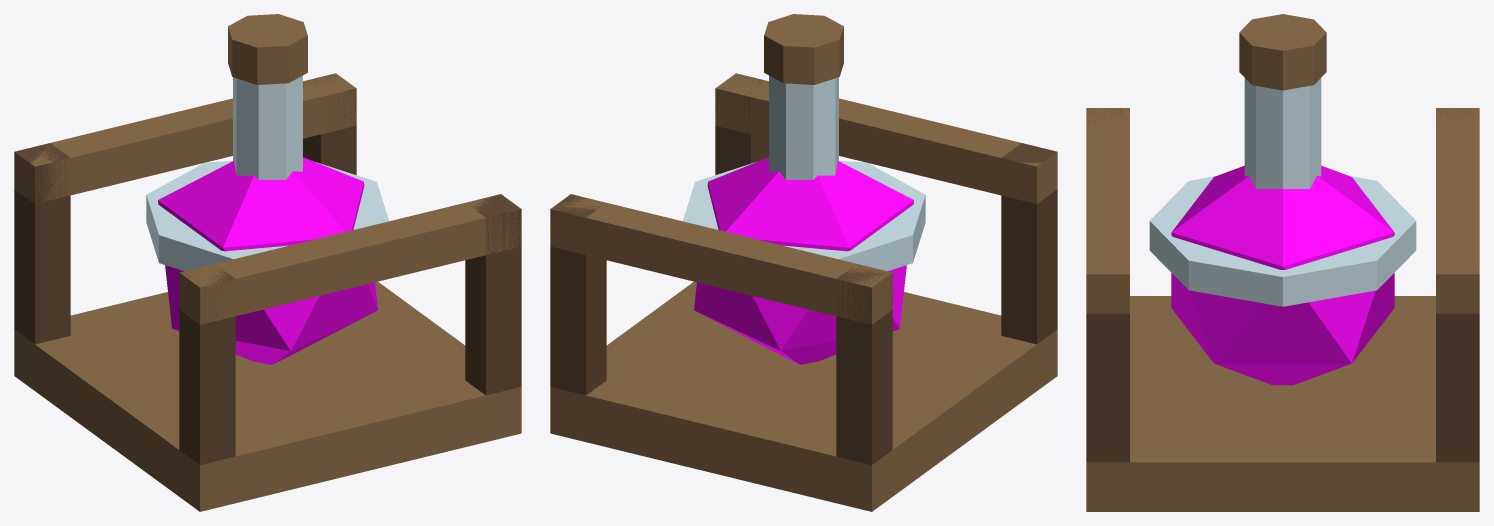
The model's file is objet_science.glb.
3 renders of one model, left to right at view 1: azimuth 30°, elevation 25°; view 2: azimuth 150°, elevation 25°; view 3: azimuth 270°, elevation 25°, orthographic. The views are drawn at different scales.
Parts seen in each view (by area): view 1: science_bois.002, science_bois_sombre.002, science_teinte.002, science_verre_clair.002; view 2: science_bois.002, science_bois_sombre.002, science_teinte.002, science_verre_clair.002; view 3: science_bois.002, science_teinte.002, science_verre_clair.002, science_bois_sombre.002.
Boxes of the visible parts, x1,y1,x2,y2 form: science_bois.002: (14, 14, 521, 511); science_bois_sombre.002: (14, 74, 521, 507); science_teinte.002: (158, 157, 377, 364); science_verre_clair.002: (146, 75, 388, 271); science_bois.002: (550, 14, 1057, 511); science_bois_sombre.002: (550, 73, 1057, 509); science_teinte.002: (694, 157, 913, 364); science_verre_clair.002: (683, 75, 925, 271); science_bois.002: (1086, 14, 1479, 511); science_teinte.002: (1171, 165, 1394, 385); science_verre_clair.002: (1149, 78, 1416, 306); science_bois_sombre.002: (1086, 108, 1479, 462).
Bounding box in the file's own units: 0.18 × 0.2 × 0.18.
